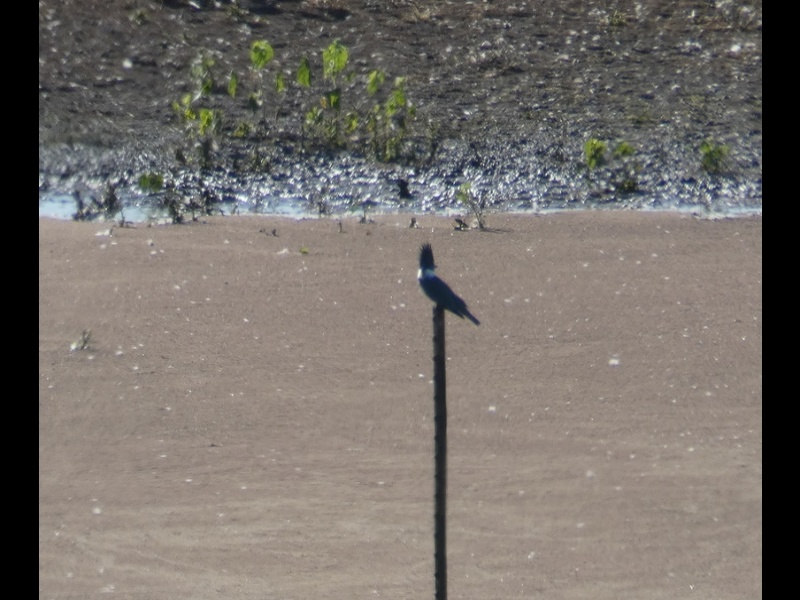kingfisher: (412, 241, 481, 326)
